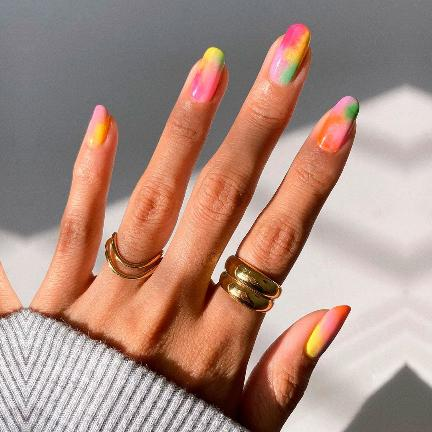Nail: (268, 24, 310, 86), (303, 305, 350, 360), (316, 96, 358, 152), (190, 47, 224, 103), (83, 105, 109, 147)
